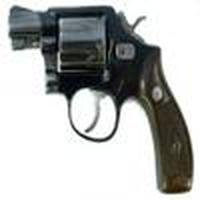gun: (1, 1, 199, 194)
